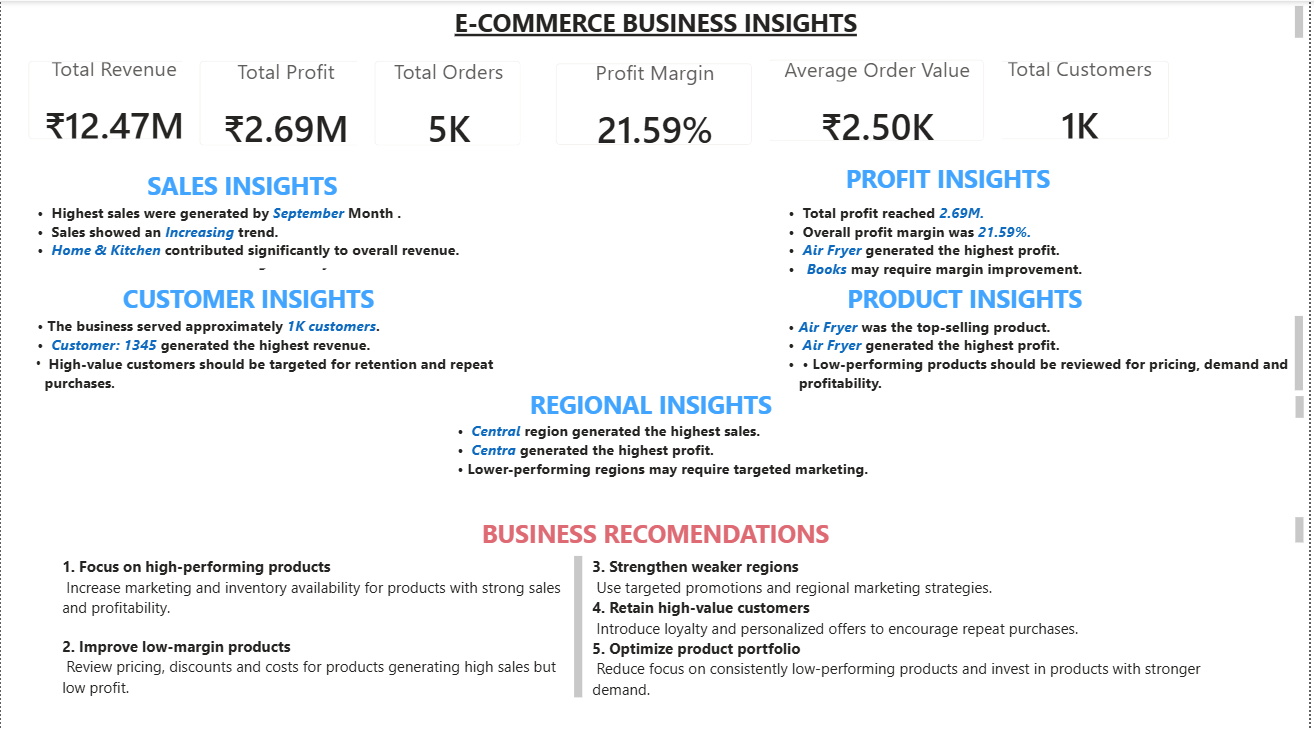

Layout of this report page (visuals, bound fields, positions):
{"tool":"powerbi","page":{"name":"Business Insights","canvas":[1280,720],"ordinal":1},"visuals":[{"type":"textbox","box":[9.8,0,1269.3,41.6],"z":0},{"type":"cardVisual","title":"Total Revenue","fields":{"Data":["ecommerce_sales_cleaned.Total Revenue"]},"box":[9.8,41.6,200.5,111.3],"z":1000},{"type":"cardVisual","title":"Total Revenue","fields":{"Data":["ecommerce_sales_cleaned.Total Profit"]},"box":[177.3,41.6,201.8,117.4],"z":2000},{"type":"cardVisual","title":"Total Revenue","fields":{"Data":["ecommerce_sales_cleaned.Total Orders"]},"box":[348.5,41.6,177.3,117.4],"z":3000},{"type":"cardVisual","title":"Total Revenue","fields":{"Data":["ecommerce_sales_cleaned.Total Customers"]},"box":[948.9,41.6,211.6,111.3],"z":4000},{"type":"cardVisual","title":"Total Revenue","fields":{"Data":["ecommerce_sales_cleaned.Average Order Value"]},"box":[733.7,40.4,245.8,114.9],"z":5000},{"type":"cardVisual","title":"Total Revenue","fields":{"Data":["ecommerce_sales_cleaned.Profit Margin"]},"box":[525.8,44,226.2,114.9],"z":6000},{"type":"textbox","box":[9.8,159,452.4,44],"z":7000},{"type":"textbox","box":[8.6,270.2,467.1,66],"z":8000},{"type":"textbox","box":[573.5,152.9,705.6,50.1],"z":9000},{"type":"textbox","box":[606.5,270.2,672.6,48.9],"z":10000},{"type":"textbox","box":[0,374.2,1279.1,40.4],"z":11000},{"type":"textbox","box":[8.6,500.1,1270.5,37.9],"z":12000},{"type":"textbox","box":[9.4,203.2,453.4,75.3],"z":13000},{"type":"textbox","box":[19.6,192,453.7,69.7],"z":14000},{"type":"textbox","box":[19.6,303.3,472,91.7],"z":15000},{"type":"textbox","box":[754.5,192,524.6,86.8],"z":16000},{"type":"textbox","box":[754.5,303.3,524.6,83.2],"z":17000},{"type":"textbox","box":[55,538,518.5,156.5],"z":18000},{"type":"textbox","box":[573.5,538,644.4,156.5],"z":18001},{"type":"textbox","box":[437.8,406,439,102.7],"z":18002}]}

Visuals, with their boxes in screenshot pixels (x1, y1, x2, y2), scaled from the page's 1280x720 canvas onto the 1314x730 screenshot:
textbox: <box>10,0,1313,42</box>
"Total Revenue" cardVisual: <box>10,42,216,155</box>
"Total Revenue" cardVisual: <box>182,42,389,161</box>
"Total Revenue" cardVisual: <box>358,42,540,161</box>
"Total Revenue" cardVisual: <box>974,42,1191,155</box>
"Total Revenue" cardVisual: <box>753,41,1006,157</box>
"Total Revenue" cardVisual: <box>540,45,772,161</box>
textbox: <box>10,161,474,206</box>
textbox: <box>9,274,488,341</box>
textbox: <box>589,155,1313,206</box>
textbox: <box>623,274,1313,324</box>
textbox: <box>0,379,1313,420</box>
textbox: <box>9,507,1313,545</box>
textbox: <box>10,206,475,282</box>
textbox: <box>20,195,486,265</box>
textbox: <box>20,308,505,400</box>
textbox: <box>775,195,1313,283</box>
textbox: <box>775,308,1313,392</box>
textbox: <box>56,545,589,704</box>
textbox: <box>589,545,1250,704</box>
textbox: <box>449,412,900,516</box>
